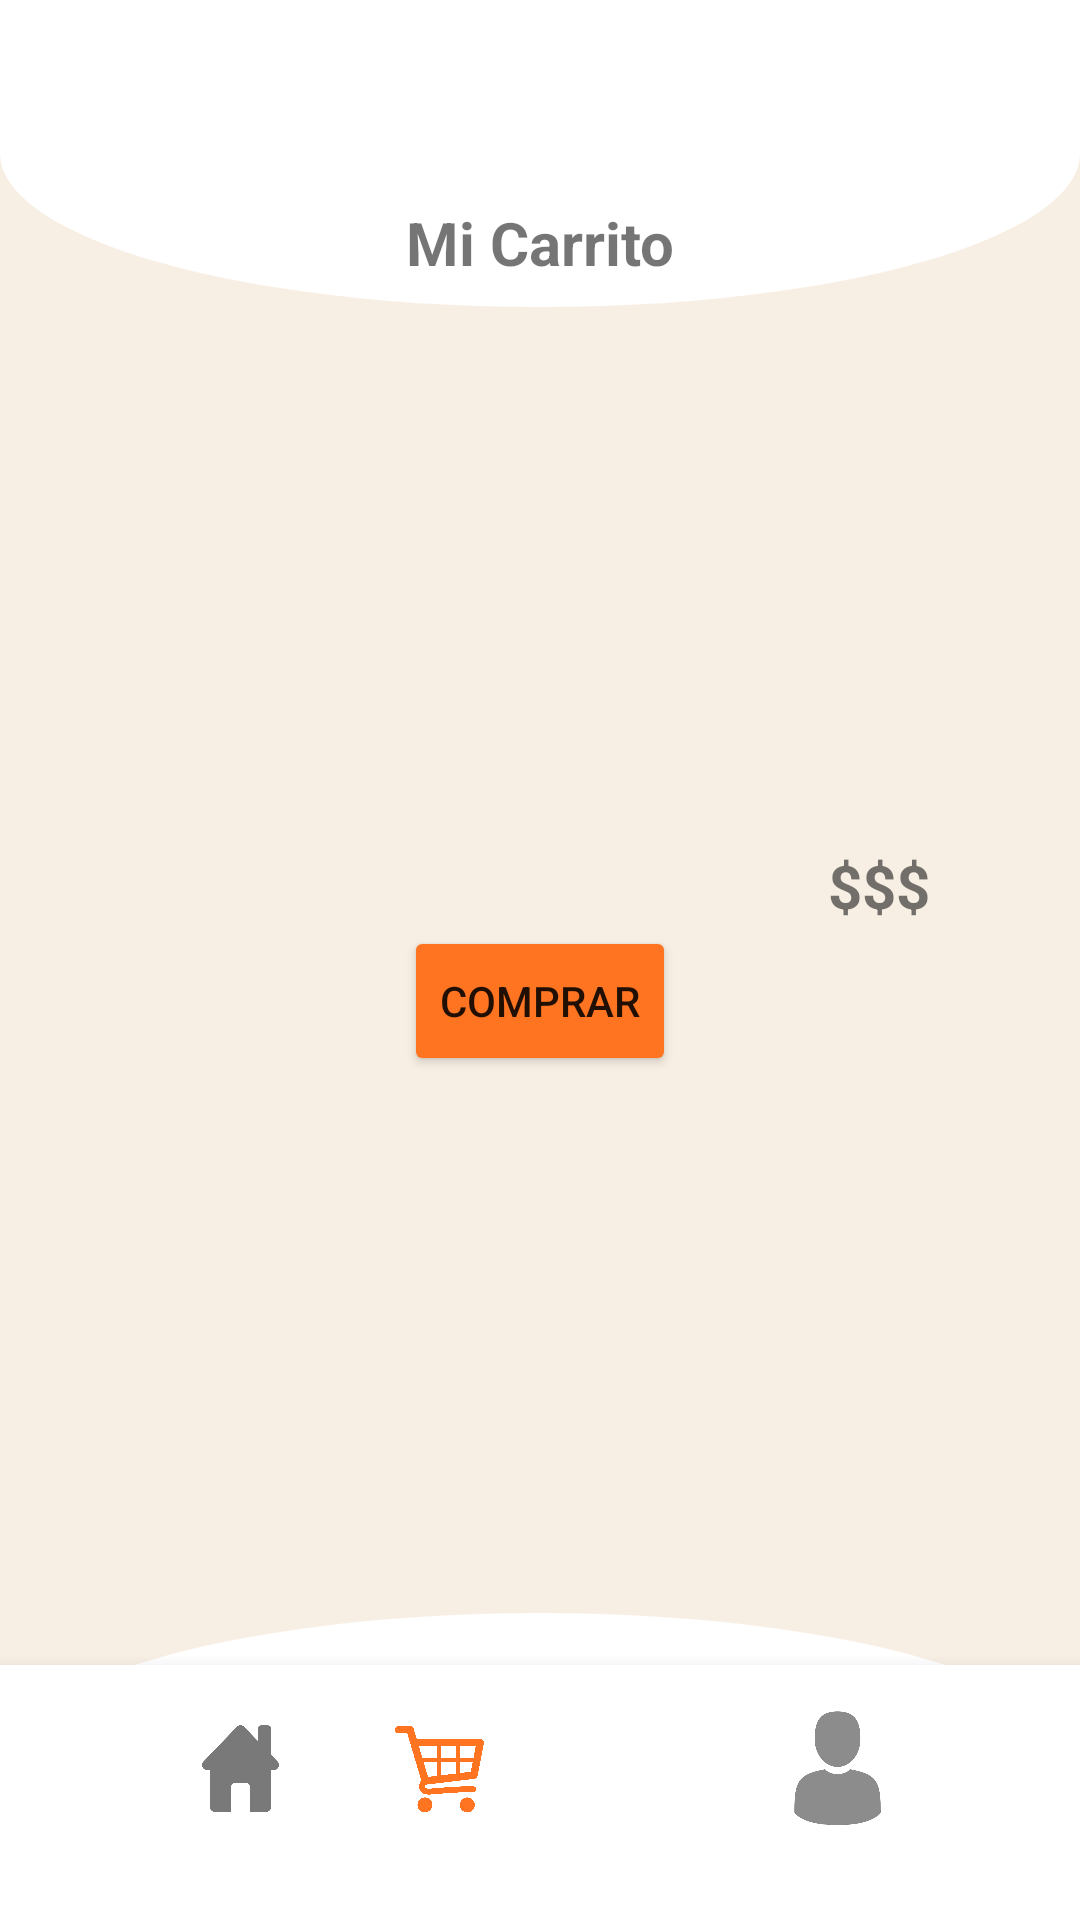

Icons on this 1080x1920 Android screen, each with its box as (x1, y1, x2, y2):
home: (202, 1725, 279, 1812)
perfil: (794, 1711, 881, 1825)
